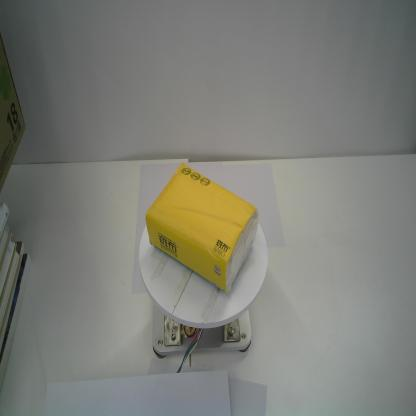Tissue: (143, 161, 259, 295)
